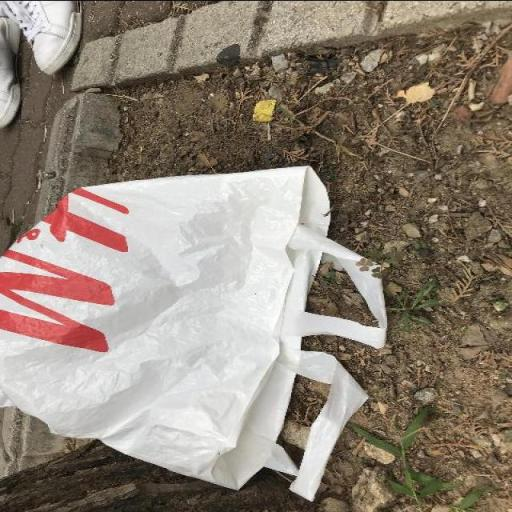plastic-bag: (0, 161, 394, 501)
